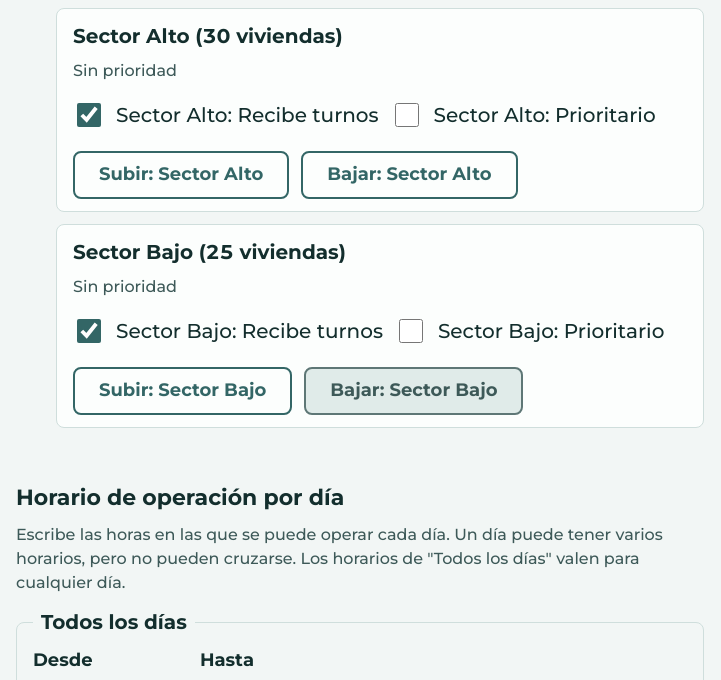
Scenario: SectorsEditor › can stop a sector from receiving shifts
(page scrolled)
What coordinates should you click on to do the following:
click the checkbox labelled "Sector Bajo: Recibe turnos"
I would click on:
 (89, 331)
Its box is [77,319,101,343].
(page scrolled)
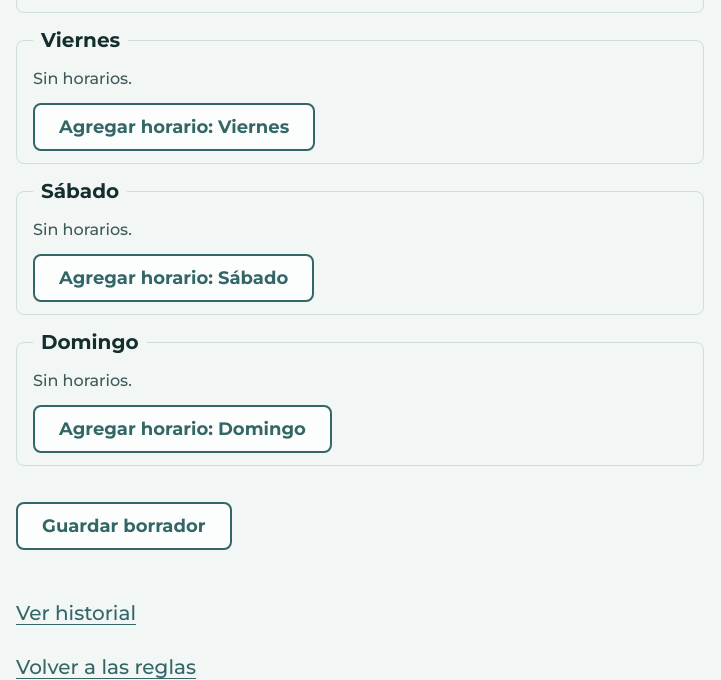
What coordinates should you click on to do the following:
click the button "Guardar borrador"
I would click on:
 (124, 526)
Its box is [16,502,232,550].
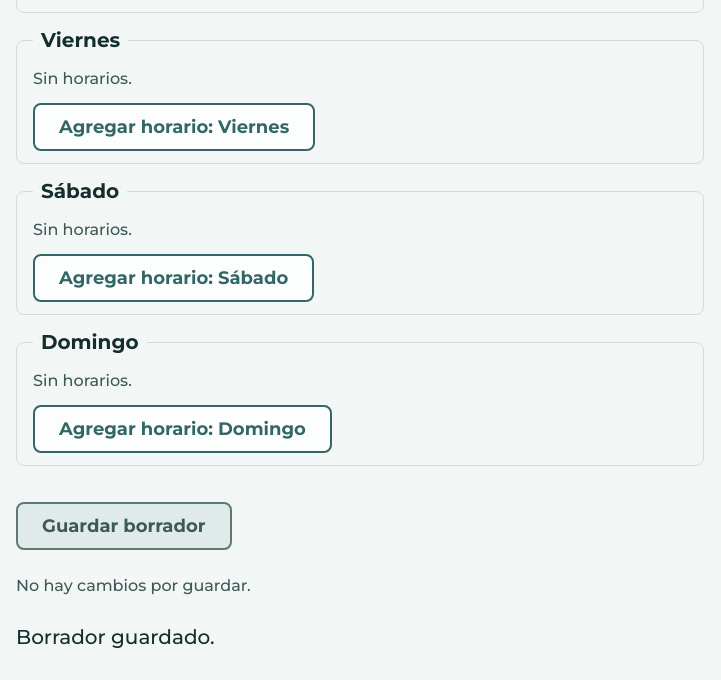
Now the text "Borrador guardado." is shown, box [16,626,215,650]
